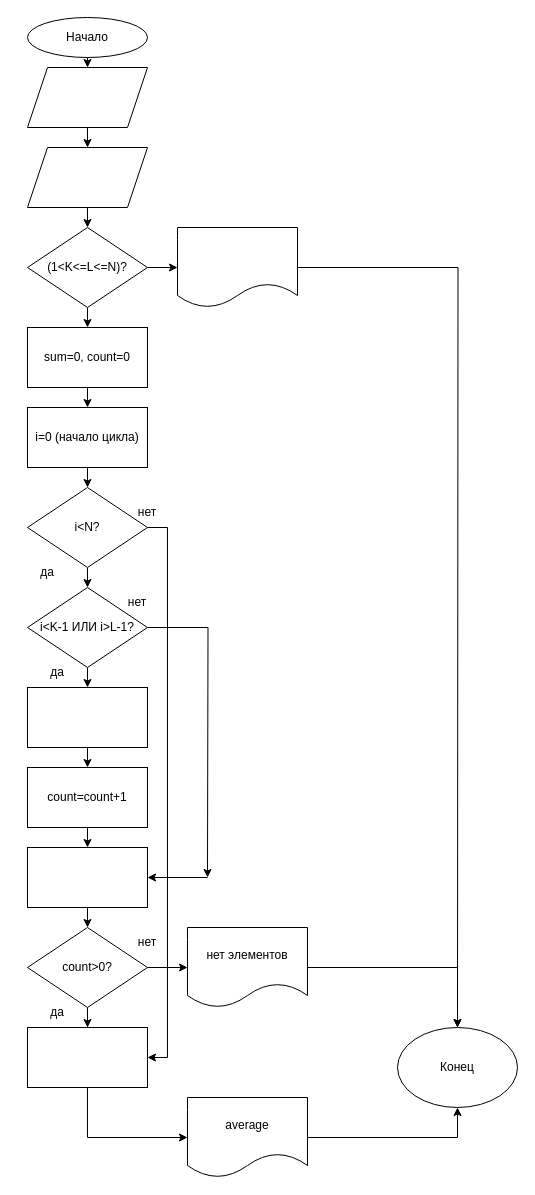
Some shapes in this 535 by 1195 pixel diagram are drawn without their labels. Each missing label, with the centre of its shape:
average=sum/count: (87,1057)
i++: (87,877)
sum=sum+A[i]: (87,717)
Ввод K и L: (87,177)
Ввод N, массива A: (87,97)
Ошибка: (237,267)
